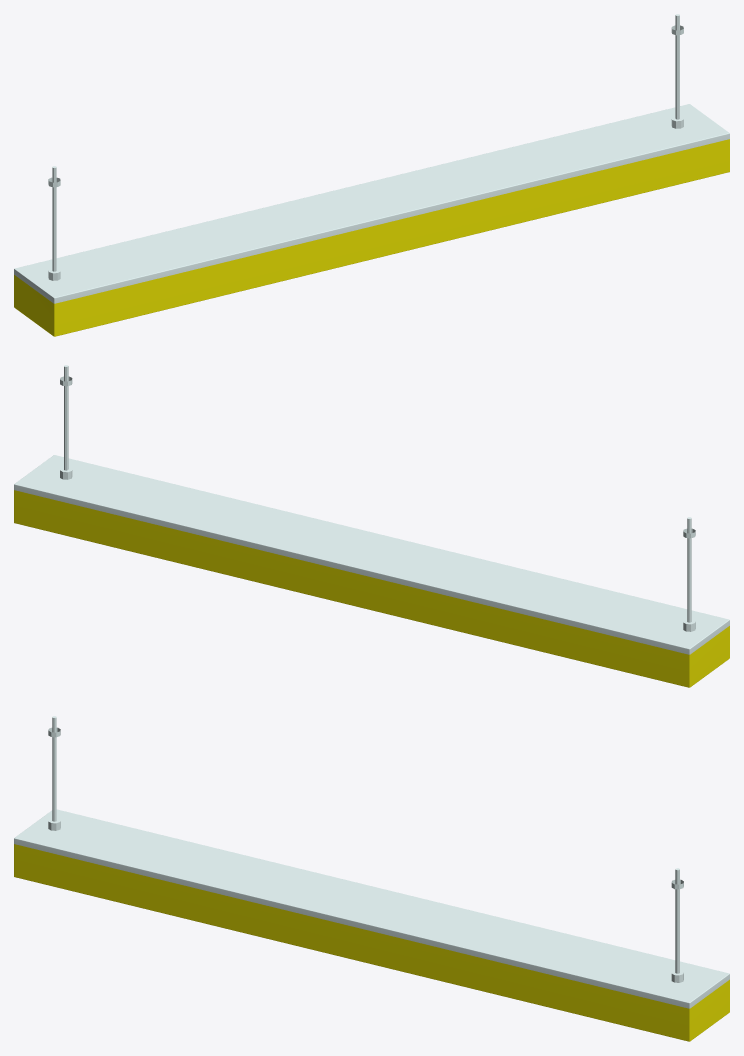
File: RectangularHangingLight_GEO.fbx
3 views of the same model, one above another, from view 1: azimuth 30°, elevation 25°; view 2: azimuth 150°, elevation 25°; view 3: azimuth 330°, elevation 25° (orthographic).
Parts seen in each view (by area): view 1: RectangularHangingLight_GEO; view 2: RectangularHangingLight_GEO; view 3: RectangularHangingLight_GEO.
Part boxes in pixels (bbox=[...]): RectangularHangingLight_GEO: bbox=[14, 14, 729, 336]; RectangularHangingLight_GEO: bbox=[14, 365, 729, 687]; RectangularHangingLight_GEO: bbox=[14, 716, 729, 1041].
Size of the model in its own units: 177 by 37.53 by 18.34.
